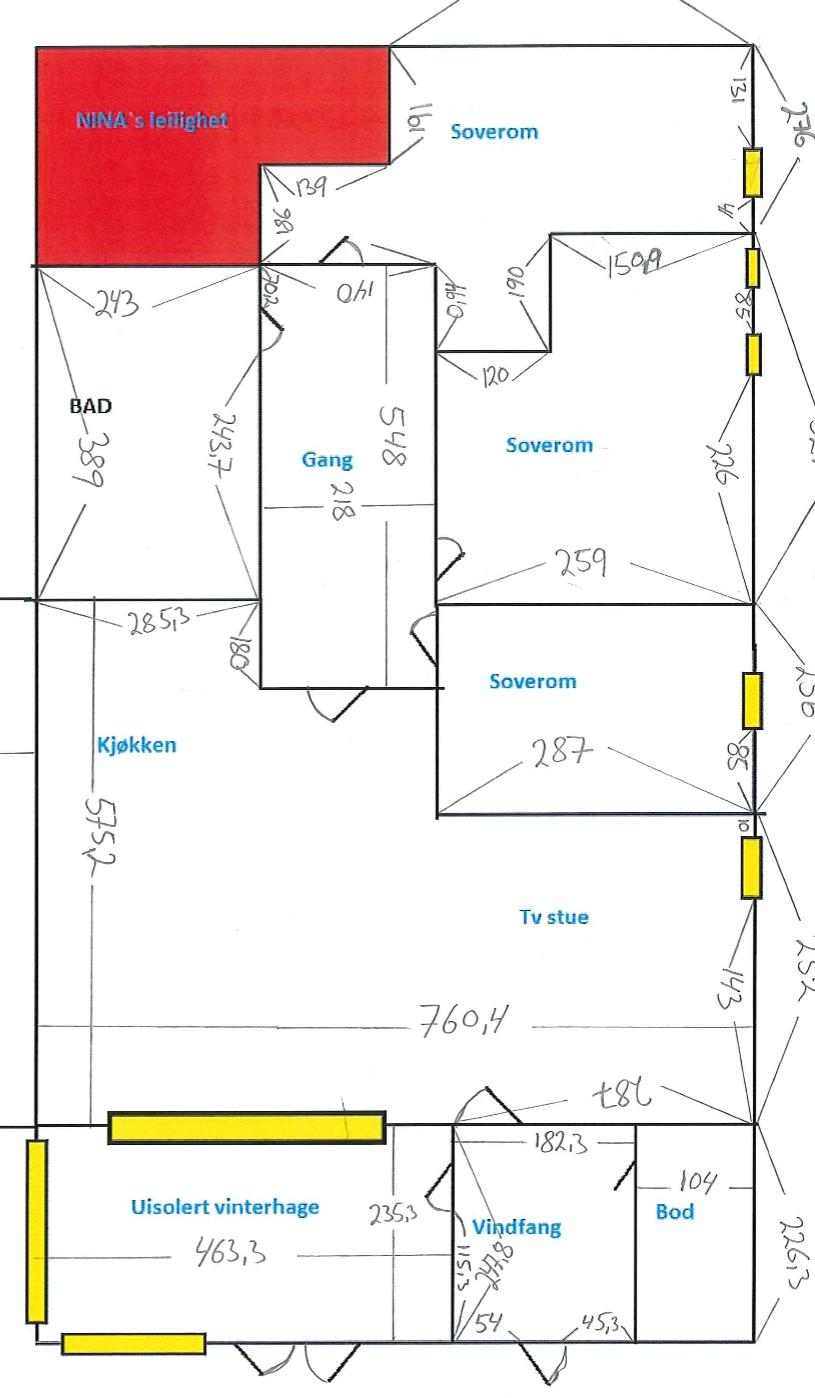room: (438, 234, 754, 602), (260, 45, 756, 263), (35, 1124, 454, 1343), (261, 262, 439, 690), (37, 264, 257, 601), (437, 603, 755, 814), (454, 1123, 634, 1344), (637, 1125, 753, 1341)
